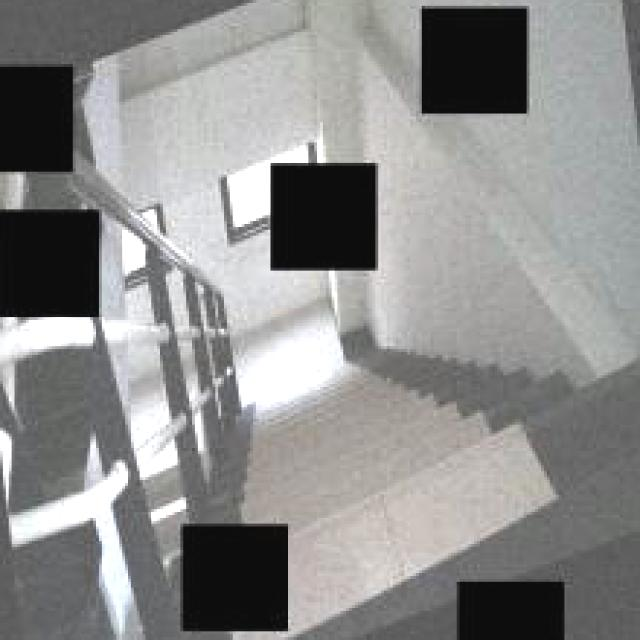downstair: (242, 391, 519, 522)
